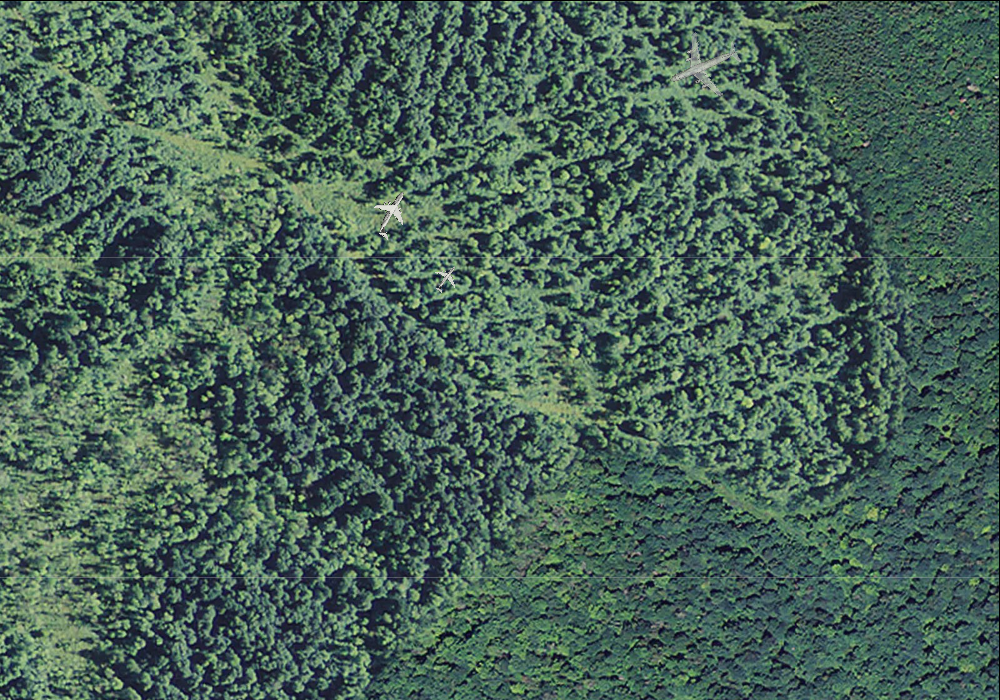plane: (657, 19, 752, 111), (361, 181, 423, 246), (426, 258, 467, 299)
